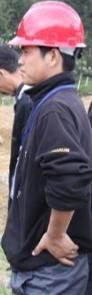hard-hat: (0, 24, 24, 61)
